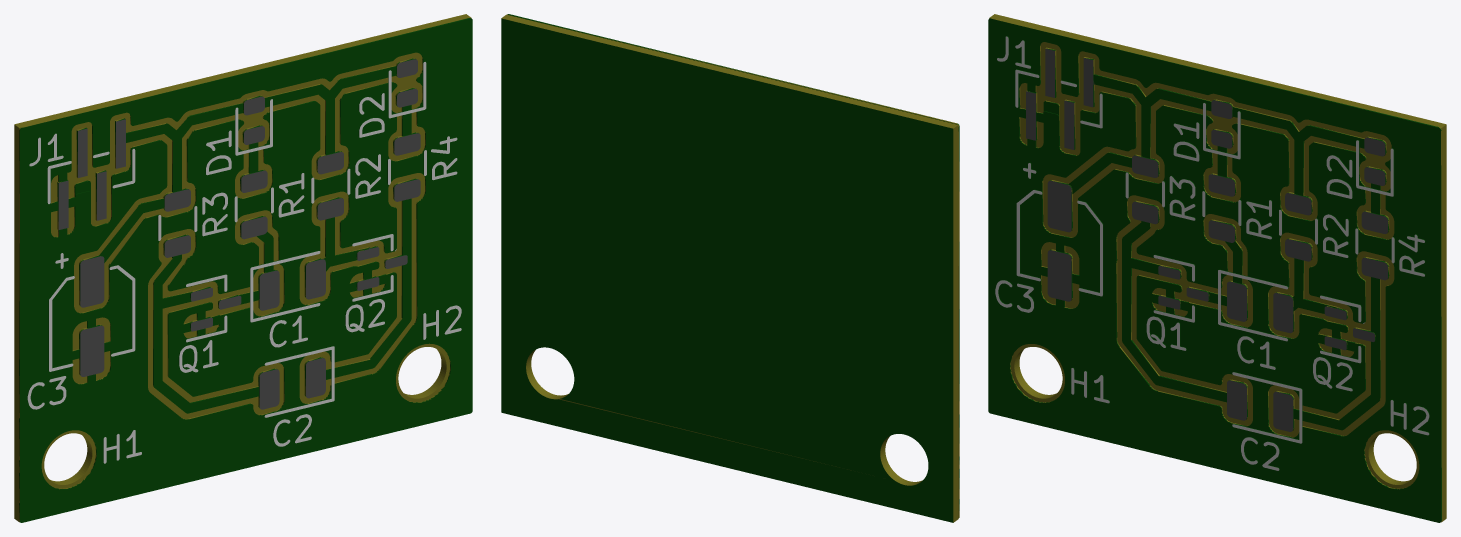
Rendered from PCB.obj.
3 views of the same model, side by side, from view 1: azimuth 30°, elevation 25°; view 2: azimuth 150°, elevation 25°; view 3: azimuth 330°, elevation 25° (orthographic).
Parts seen in each view (by area): view 1: obj1; view 2: obj1; view 3: obj1.
Part boxes in pixels (left/top/right/bottom): obj1: left=14, top=14, right=472, bottom=522; obj1: left=501, top=14, right=959, bottom=522; obj1: left=988, top=14, right=1446, bottom=522.
Bounding box in the file's own units: 120 × 100 × 3.
